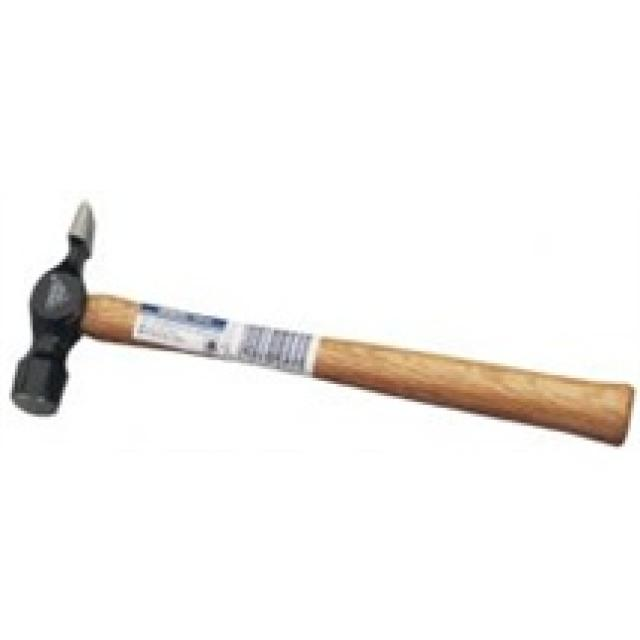hammer: (0, 182, 540, 488)
